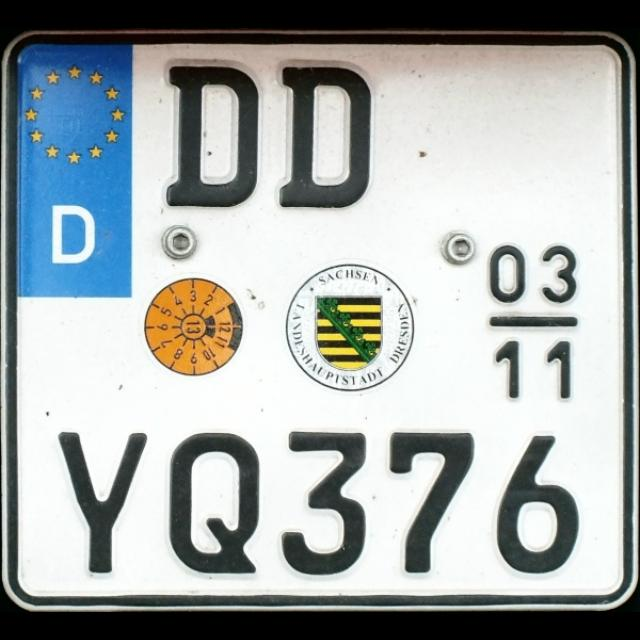d_license_plate: (12, 38, 624, 600)
